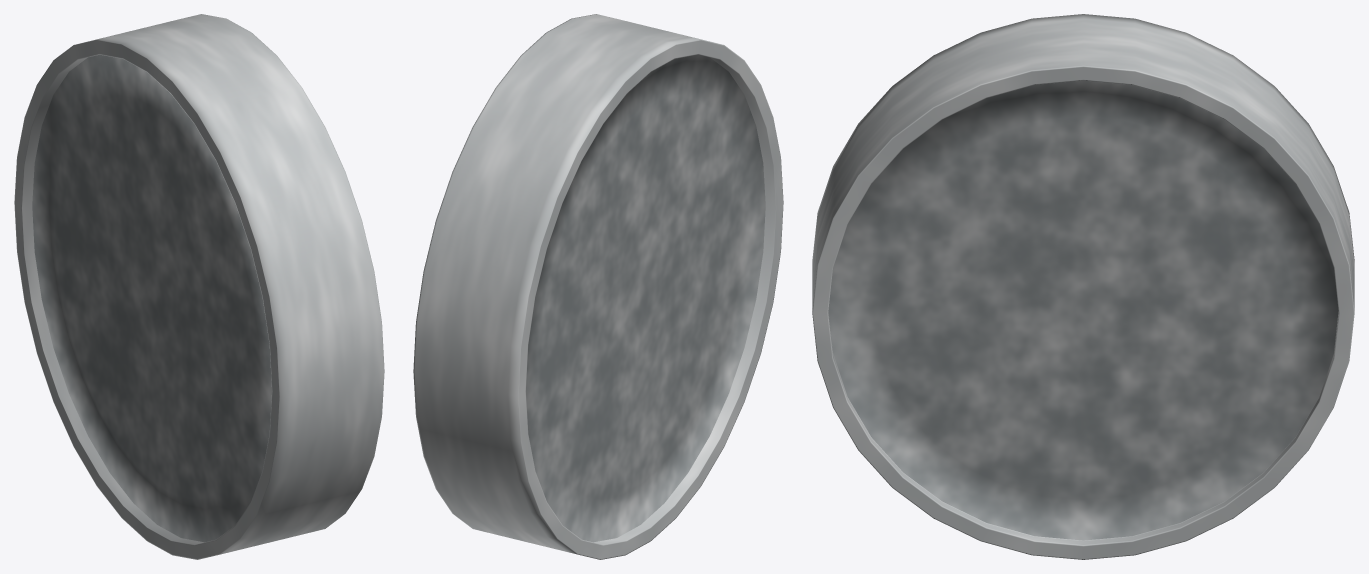
The model's file is MedellonNoche.glb.
3 renders of one model, left to right at view 1: azimuth 30°, elevation 25°; view 2: azimuth 150°, elevation 25°; view 3: azimuth 270°, elevation 25°, orthographic. The views are drawn at different scales.
Parts seen in each view (by area): view 1: AmuletoNOg+; view 2: AmuletoNOg+; view 3: AmuletoNOg+.
Boxes of the visible parts, x1,y1,x2,y2 form: AmuletoNOg+: [14, 14, 384, 559]; AmuletoNOg+: [413, 14, 783, 559]; AmuletoNOg+: [812, 14, 1354, 559].
Bounding box in the file's own units: 0.4537 × 2 × 1.99.
Materials: 2 (2 with a texture image).
